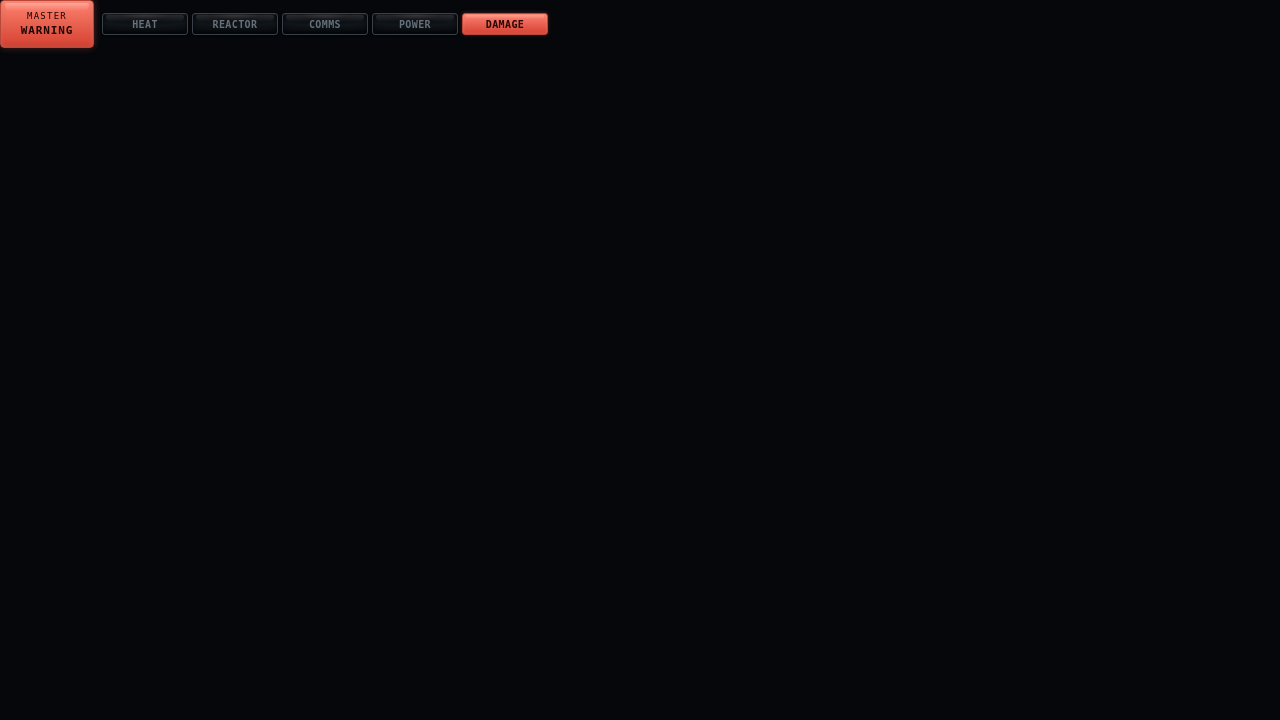
it: Flight annunciator surface › explains incomplete loss-history coverage
Click the button with aria-label "DAMAGE new warning".
click(505, 24)  # box top-left (462, 13), bottom-right (548, 35)
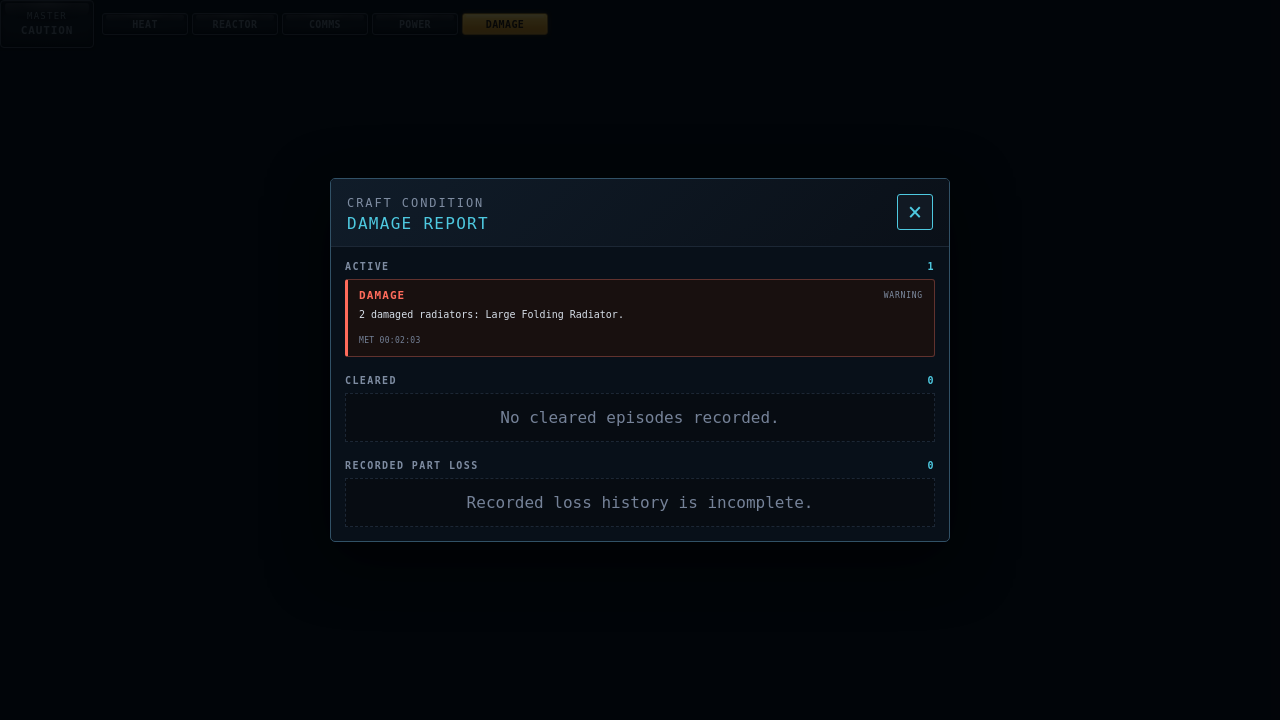
Check: the text "Recorded loss history is incomplete." is shown, box top-left (345, 478), bottom-right (935, 527)
